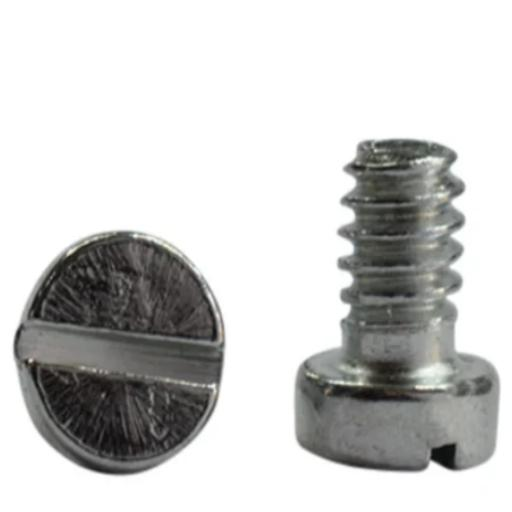Slotted: (17, 230, 222, 475)
